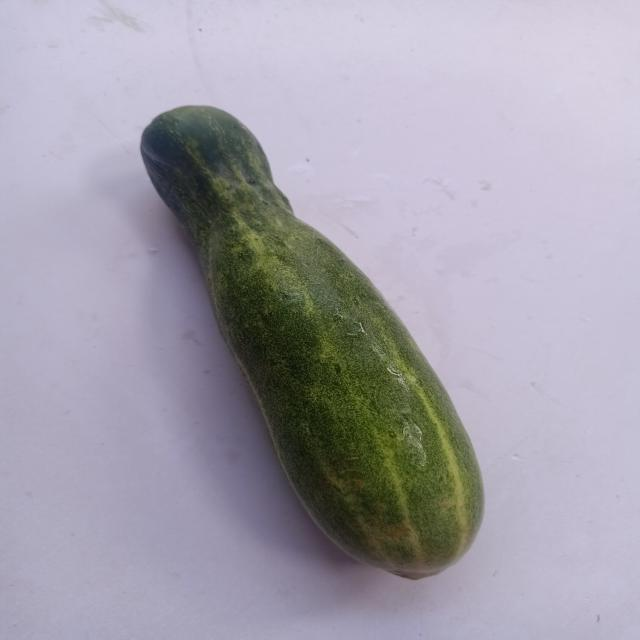Cucumber: (141, 105, 484, 580)
